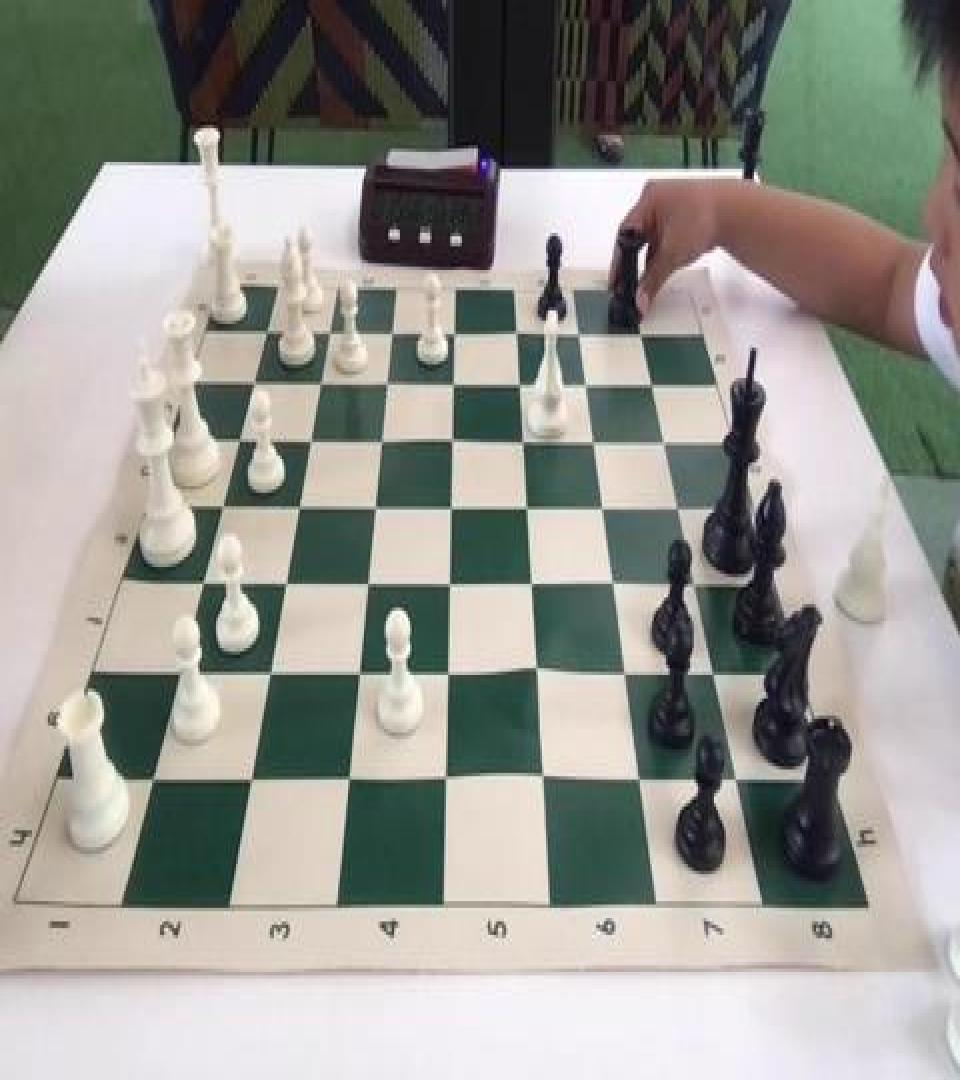xcorner: (572, 317, 596, 358), (324, 312, 348, 353), (512, 366, 536, 407), (249, 361, 273, 402), (585, 425, 609, 466), (304, 420, 328, 461), (669, 494, 693, 535), (518, 491, 542, 532), (442, 489, 466, 530), (216, 484, 240, 525), (685, 570, 709, 611), (440, 565, 464, 606), (195, 560, 219, 601), (614, 658, 638, 699), (526, 656, 550, 697), (348, 653, 372, 694), (260, 651, 284, 692), (628, 766, 652, 807), (434, 761, 458, 802), (337, 759, 361, 800), (143, 754, 167, 795), (634, 319, 658, 359), (510, 316, 534, 356), (448, 316, 472, 356), (386, 314, 410, 354), (262, 311, 286, 351), (644, 370, 668, 410), (578, 368, 602, 408), (446, 365, 470, 405), (380, 365, 404, 405), (314, 363, 338, 403), (656, 427, 680, 467), (515, 424, 539, 464), (444, 424, 468, 464), (374, 422, 398, 462), (233, 419, 257, 459), (594, 493, 618, 533), (367, 488, 391, 528), (291, 486, 315, 526), (603, 569, 627, 609), (522, 567, 546, 607), (358, 564, 382, 604), (277, 562, 301, 602), (703, 660, 727, 700), (437, 655, 461, 695), (171, 648, 195, 688), (725, 768, 749, 808), (531, 763, 555, 803), (240, 756, 264, 796)
